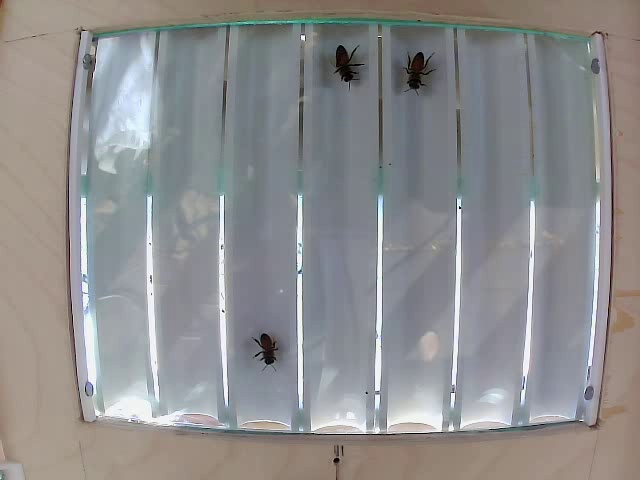bee: (326, 51, 368, 97), (405, 44, 437, 104), (252, 331, 276, 373)
